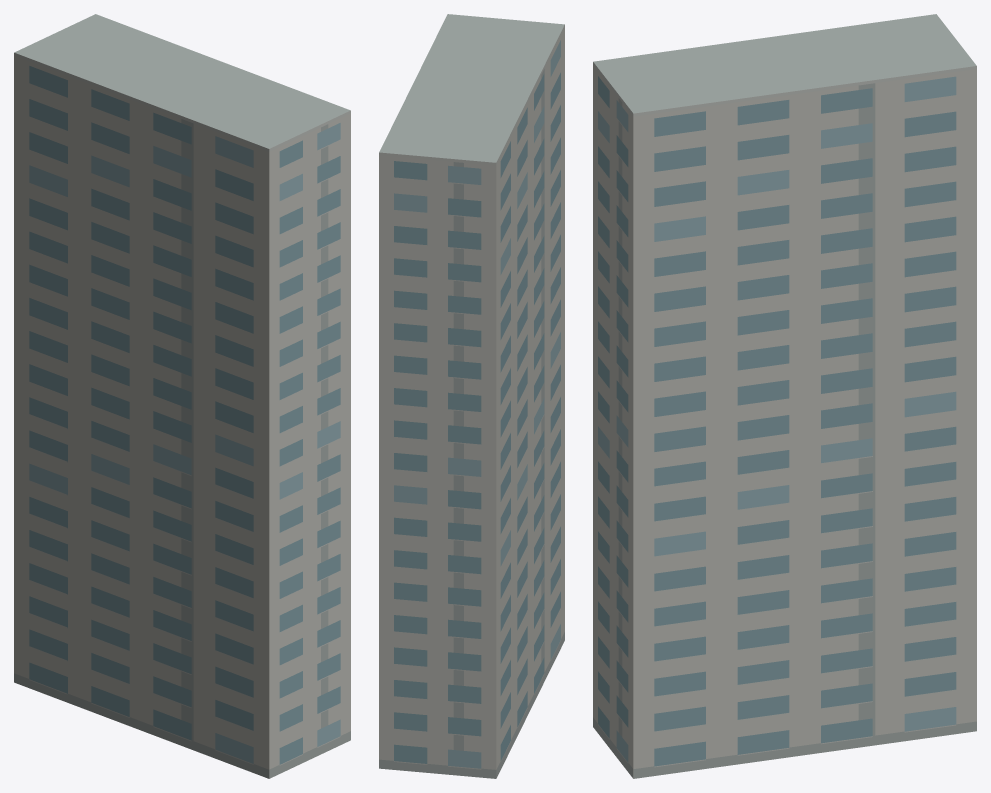
The model's file is residential-bed2aef1-091d-42c6-8599-51e07d4e04a7.glb.
The picture shows the model from 3 angles, left to right: view 1: azimuth 30°, elevation 25°; view 2: azimuth 150°, elevation 25°; view 3: azimuth 270°, elevation 25°; orthographic projection. The views are drawn at different scales.
Parts seen in each view (by area): view 1: residential-bed2aef1-091d-42c6-8599-51e07d4e04a7.tmp; view 2: residential-bed2aef1-091d-42c6-8599-51e07d4e04a7.tmp; view 3: residential-bed2aef1-091d-42c6-8599-51e07d4e04a7.tmp.
Part boxes in pixels (left/top/right/bottom): residential-bed2aef1-091d-42c6-8599-51e07d4e04a7.tmp: left=14, top=14, right=350, bottom=778; residential-bed2aef1-091d-42c6-8599-51e07d4e04a7.tmp: left=379, top=14, right=564, bottom=778; residential-bed2aef1-091d-42c6-8599-51e07d4e04a7.tmp: left=593, top=14, right=976, bottom=778.
Size of the model in its own units: 16.38 by 51 by 26.67.
